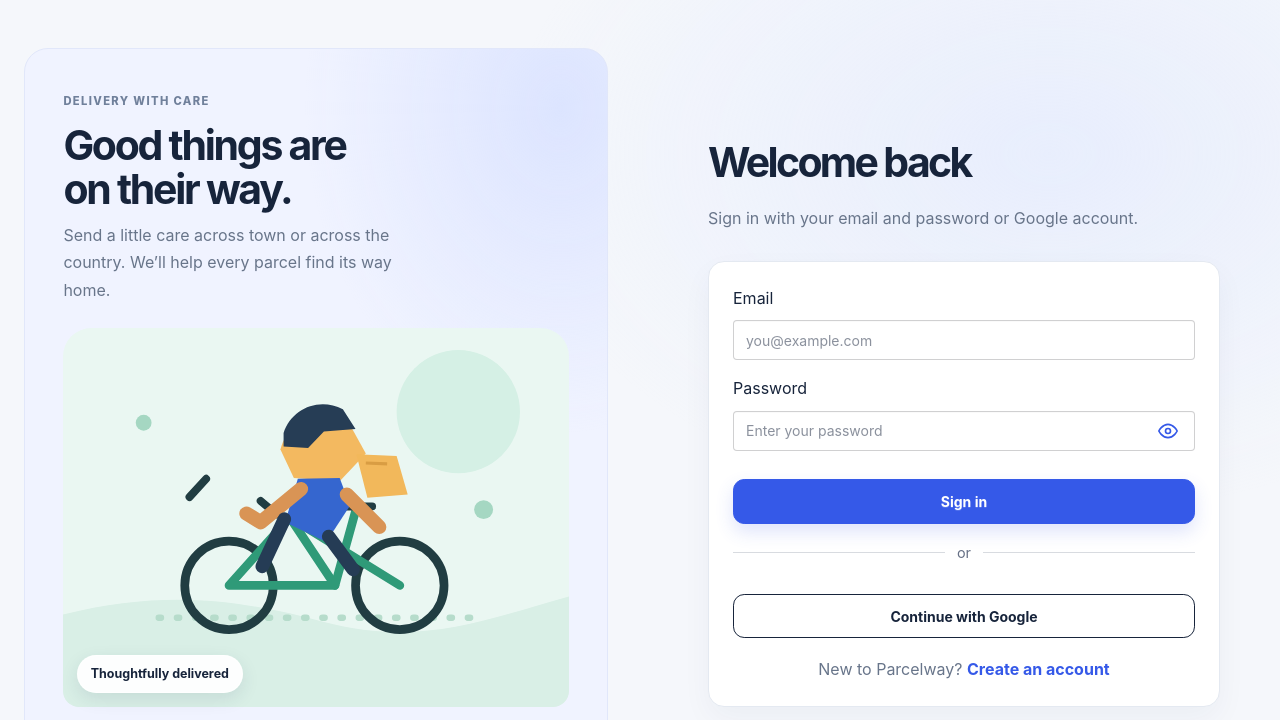
Test case: Firebase account access page › supports Google sign-in and shows provider errors
The image size is (1280, 720).
Click the button "Continue with Google" at (964, 616), box top-left (733, 594), bottom-right (1195, 638)
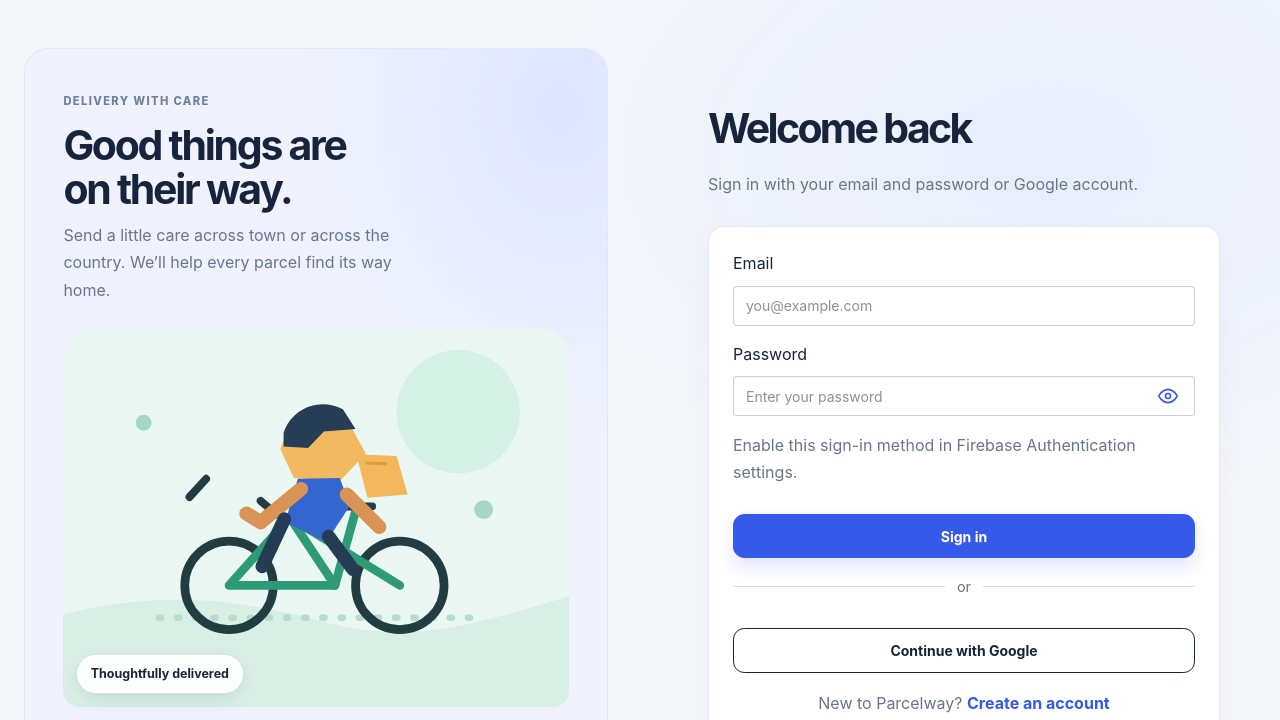
Check: the message reads "Enable this sign-in method in Firebase Authentication settings.", box top-left (733, 435), bottom-right (1136, 482)
